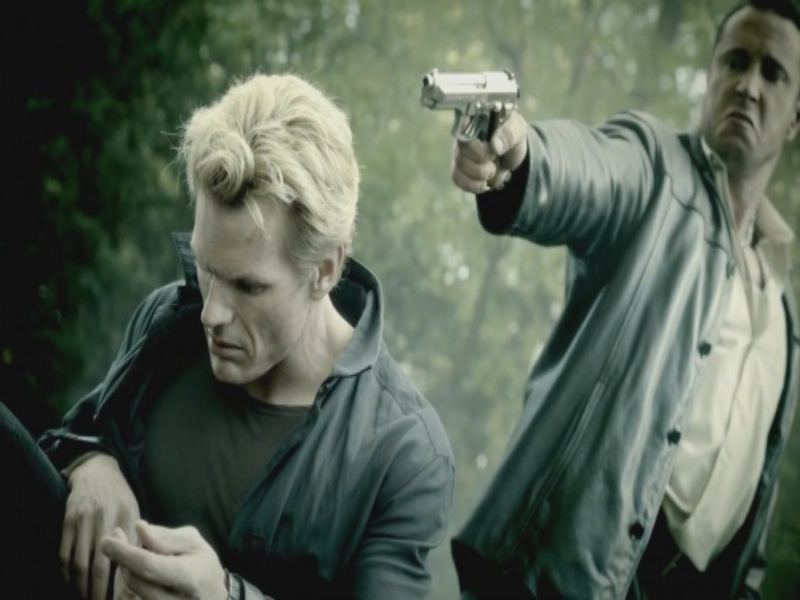person: (42, 68, 448, 597), (454, 2, 800, 591)
weapon: (411, 61, 518, 150)
